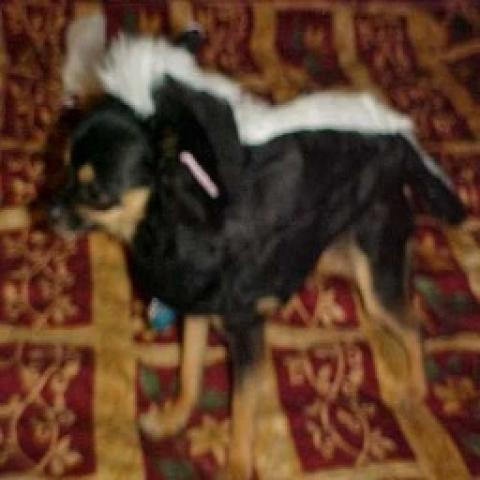small_animal: (20, 25, 470, 436)
